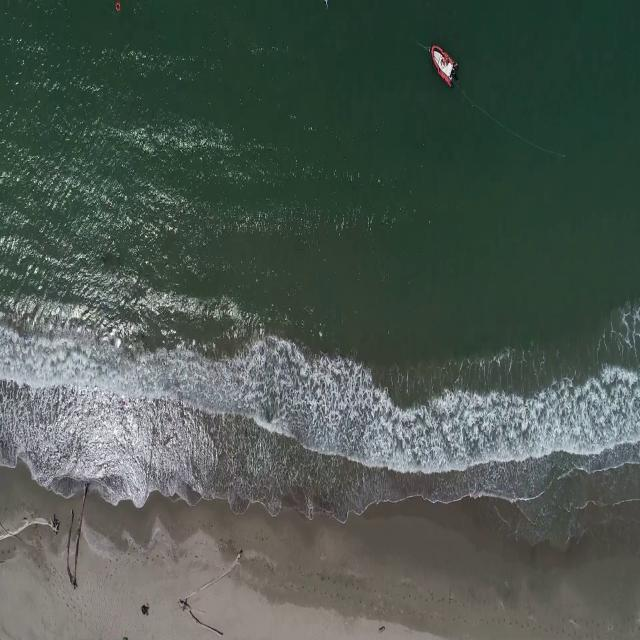boat: (431, 43, 459, 88)
life_buoy: (114, 2, 123, 14)
wood: (176, 551, 243, 602), (67, 482, 88, 594), (178, 598, 226, 636), (0, 515, 63, 539)
